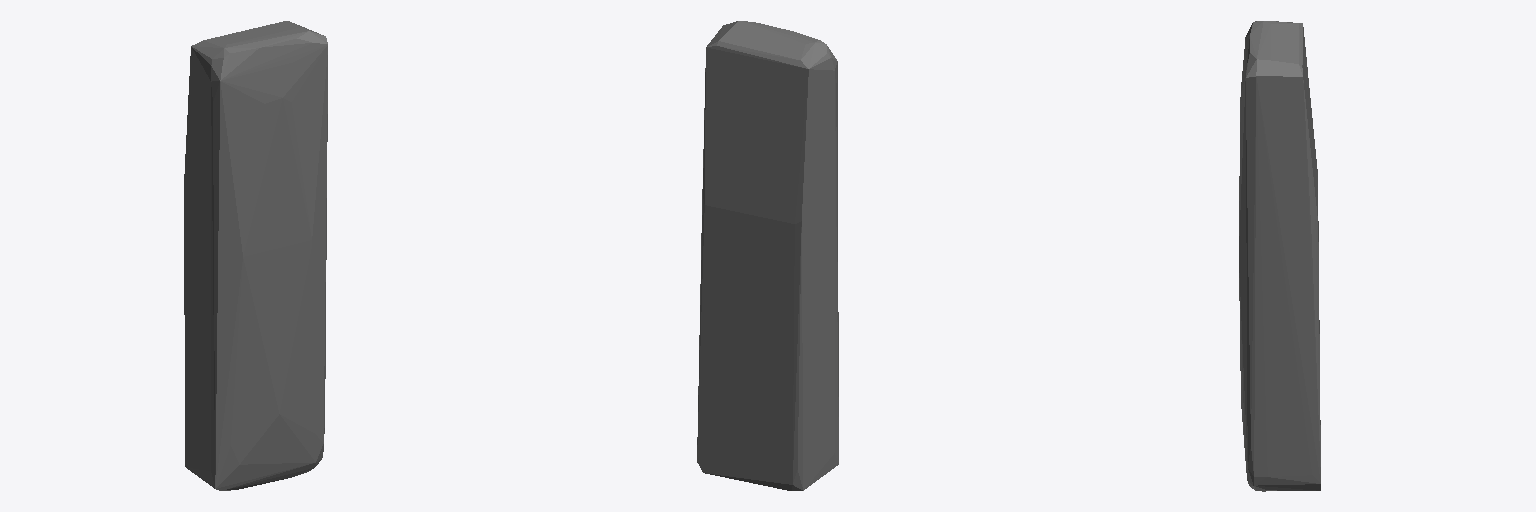
The robot description file, URDF, robot "remote_001":
<?xml version="1.0" ?>
<robot name="remote_001">
  <material name="color">
    <color rgba=".5 .5 .5 1"/>
  </material>

  <link name="base_link">
    <contact>
      <lateral_friction value="1.0"/>
      <rolling_friction value="0.001"/>
      <spinning_friction value="0.001"/>
      <inertia_scaling value="1.0"/>
    </contact>
    <inertial>
      <origin rpy="0 0 0" xyz="5.68138e-05 -0.00391587 -0.00495382"/>
       <mass value="0.1"/>
       <inertia ixx="1" ixy="0" ixz="0" iyy="1" iyz="0" izz="1"/>
    </inertial>

    <visual>
      <origin rpy="0 0 0" xyz="0 0 0"/>
      <geometry>
        <mesh filename="remote_001_vhacd_0_of_1.obj" scale="1 1 1"/>
      </geometry>
      <material name="color"/>
    </visual>

    <collision>
      <origin rpy="0 0 0" xyz="0 0 0"/>
      <geometry>
        <mesh filename="remote_001_vhacd_0_of_1.obj" scale="1 1 1"/>
      </geometry>
    </collision>

  </link>
</robot>

--- Render facts (derived) ---
3 views of the same robot in one strip: view 1: azimuth 30°, elevation 25°; view 2: azimuth 150°, elevation 25°; view 3: azimuth 270°, elevation 25° (orthographic).
Model remote_001 with 1 links and 0 joints (none), rooted at base_link, posed all joints at 0.
Links seen in each view (by area): view 1: base_link; view 2: base_link; view 3: base_link.
Boxes of the visible links, left/top/right/bottom form: base_link: left=184, top=21, right=327, bottom=490; base_link: left=697, top=21, right=838, bottom=490; base_link: left=1239, top=21, right=1320, bottom=491.
Size in the robot's own frame: 0.0567 by 0.036 by 0.2085 metres.
1 mesh visuals loaded from 1 distinct referenced files (1 OBJ).